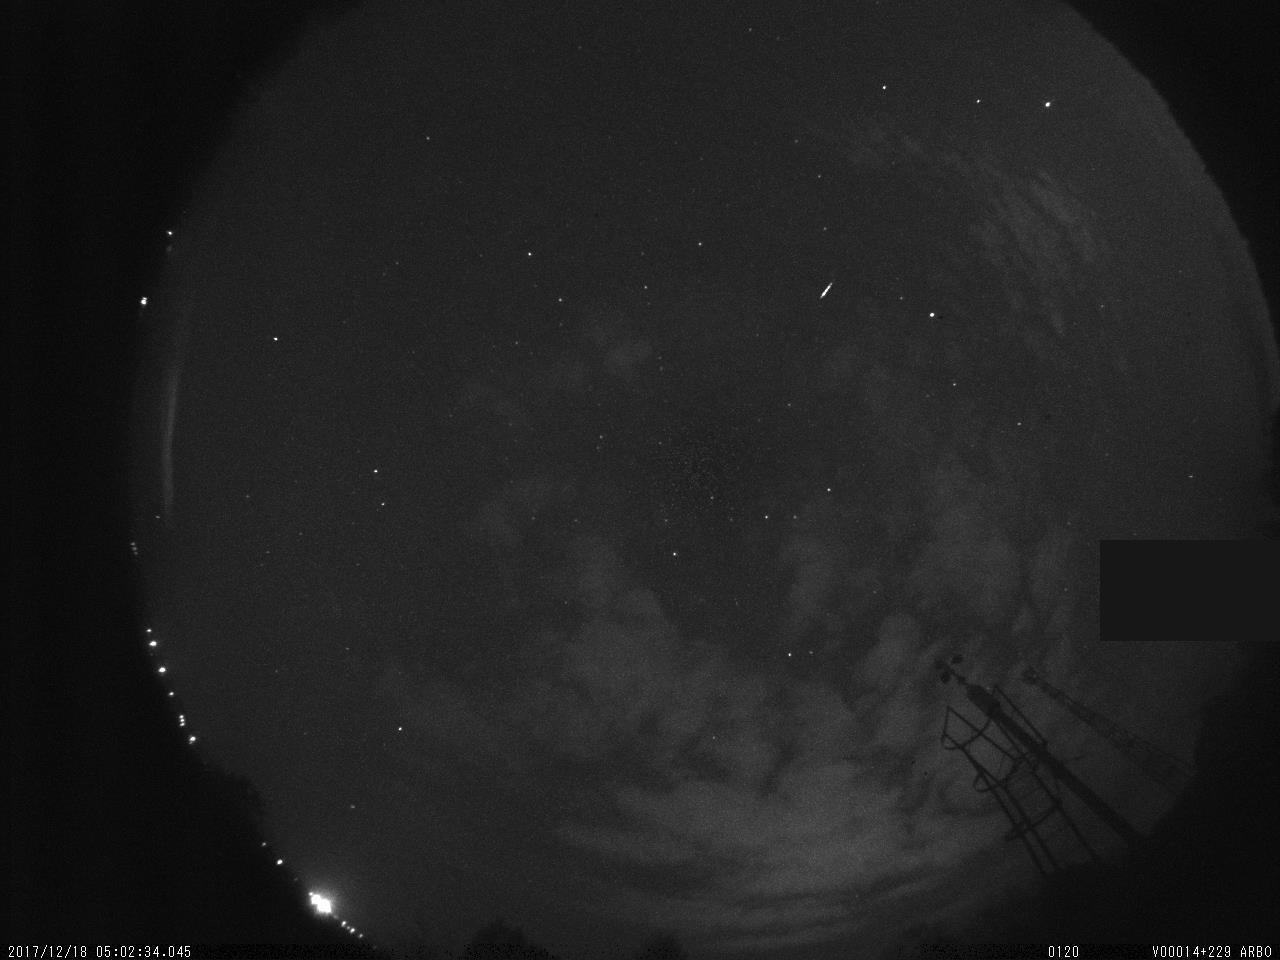meteor: (813, 272, 840, 308)
